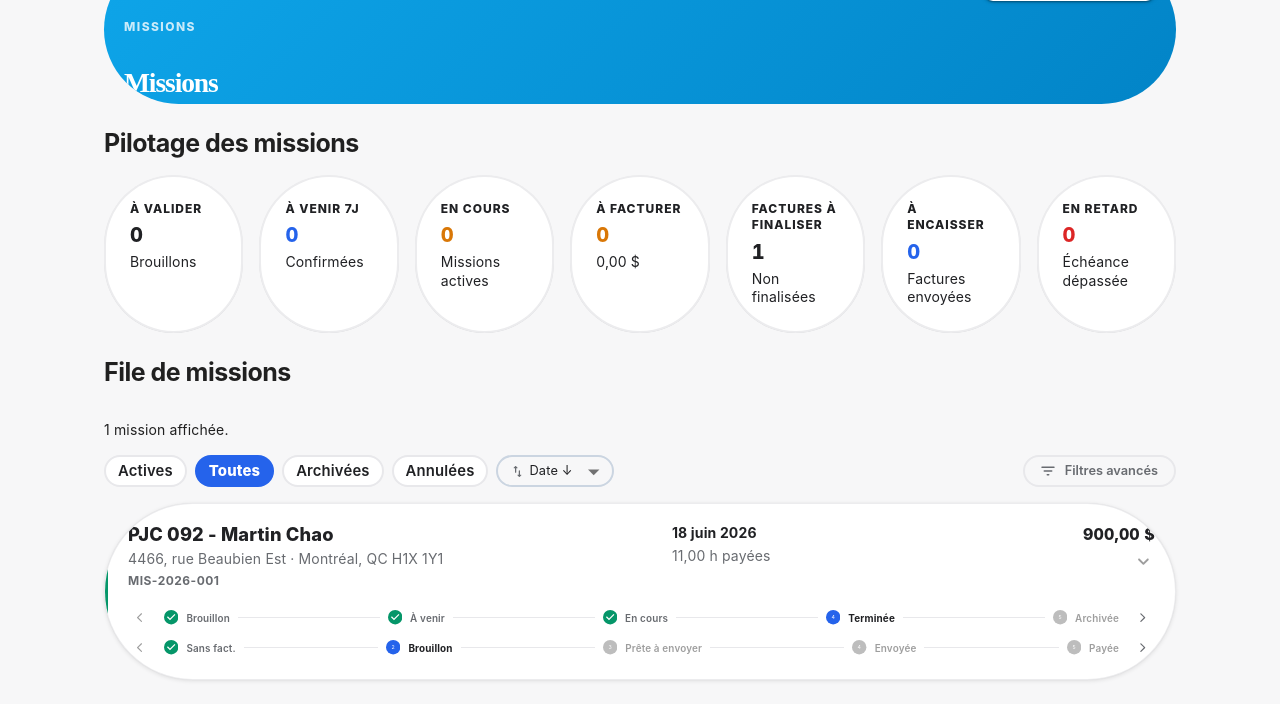
MissionsPage — bidirectional frise navigation › invoice frise back step: draft → shows delete confirmation dialog
(page scrolled)
Click the button named "Reculer : Facture :": (140, 648) [128, 636, 152, 660]
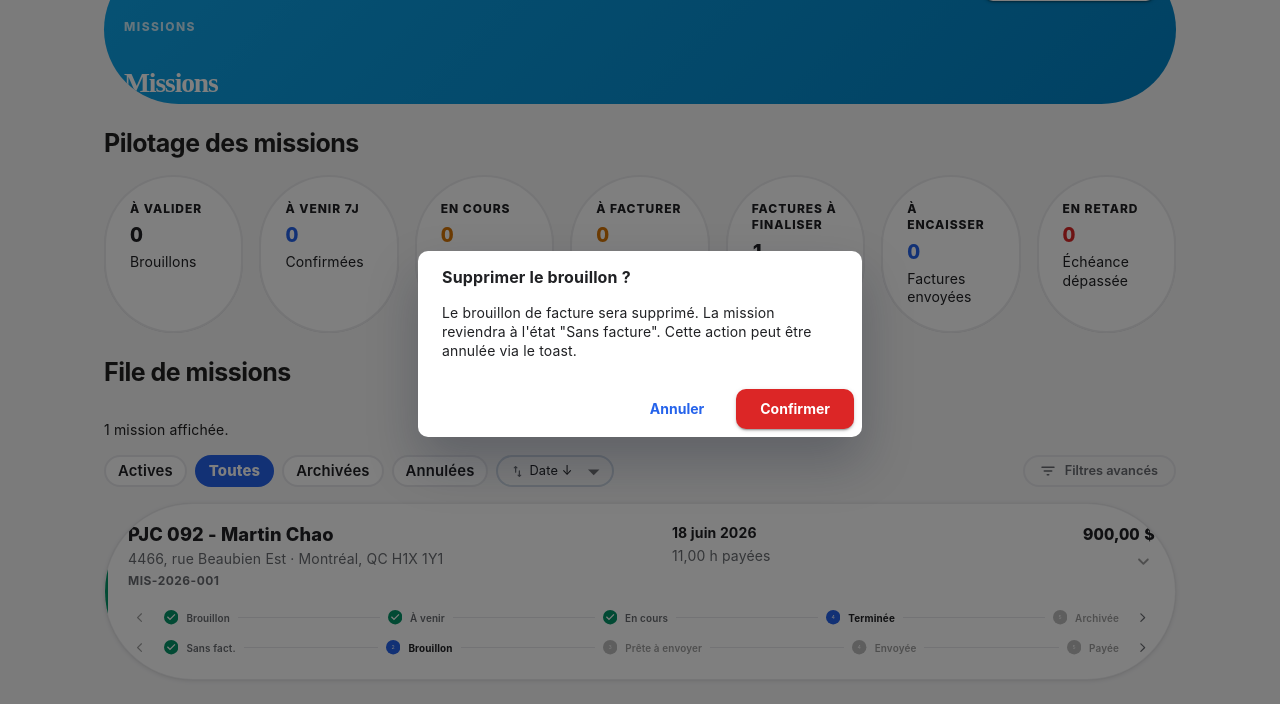
Expected: the heading "Supprimer le brouillon ?" is shown, [442, 267, 631, 287]
